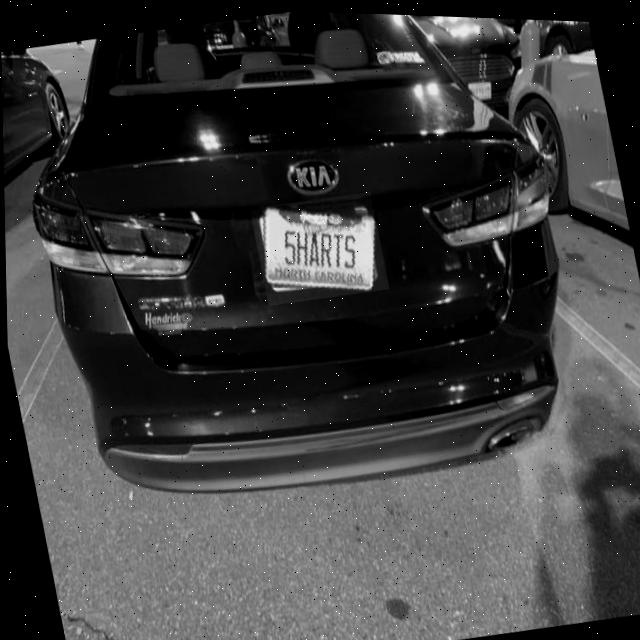LicensePlate: (264, 205, 374, 288)
